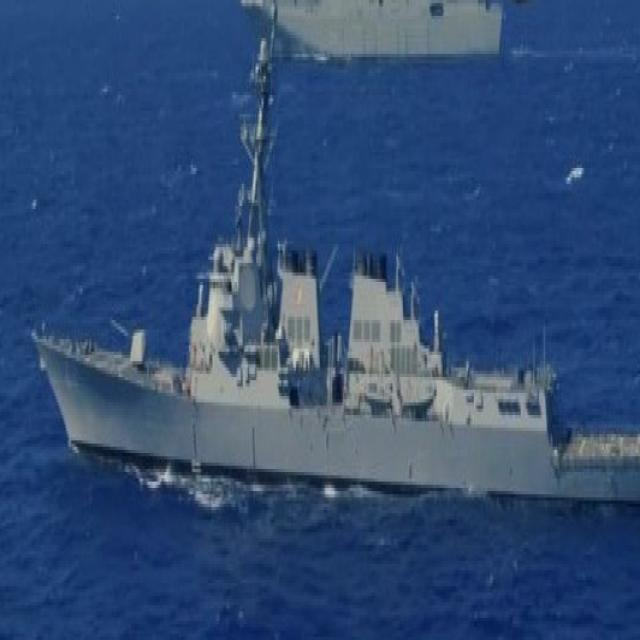navalvessels: (29, 120, 640, 520)
